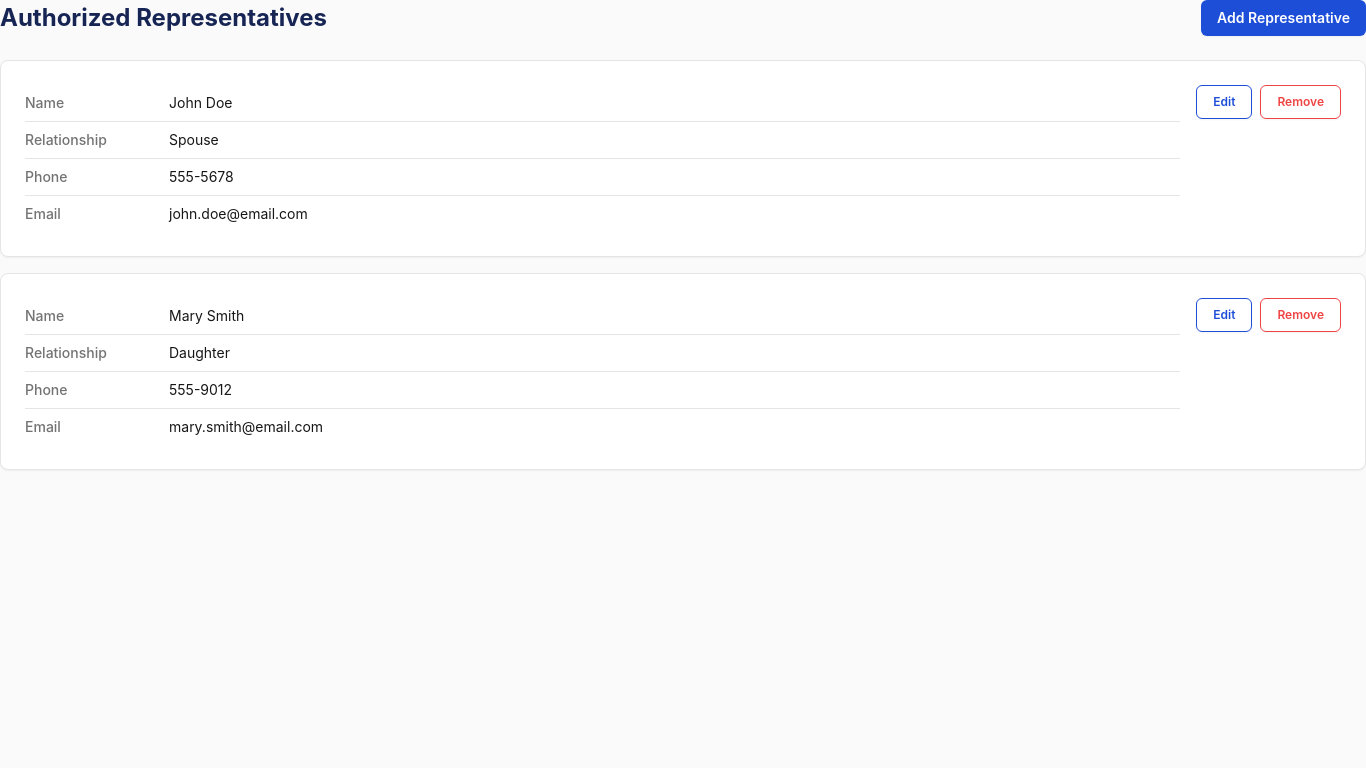
Test case: RepresentativesPage › shows confirmation modal when Remove is clicked
The image size is (1366, 768).
Click the button "Remove" in the row of "John Doe".
click(1301, 102)  # box [1260,85,1341,119]
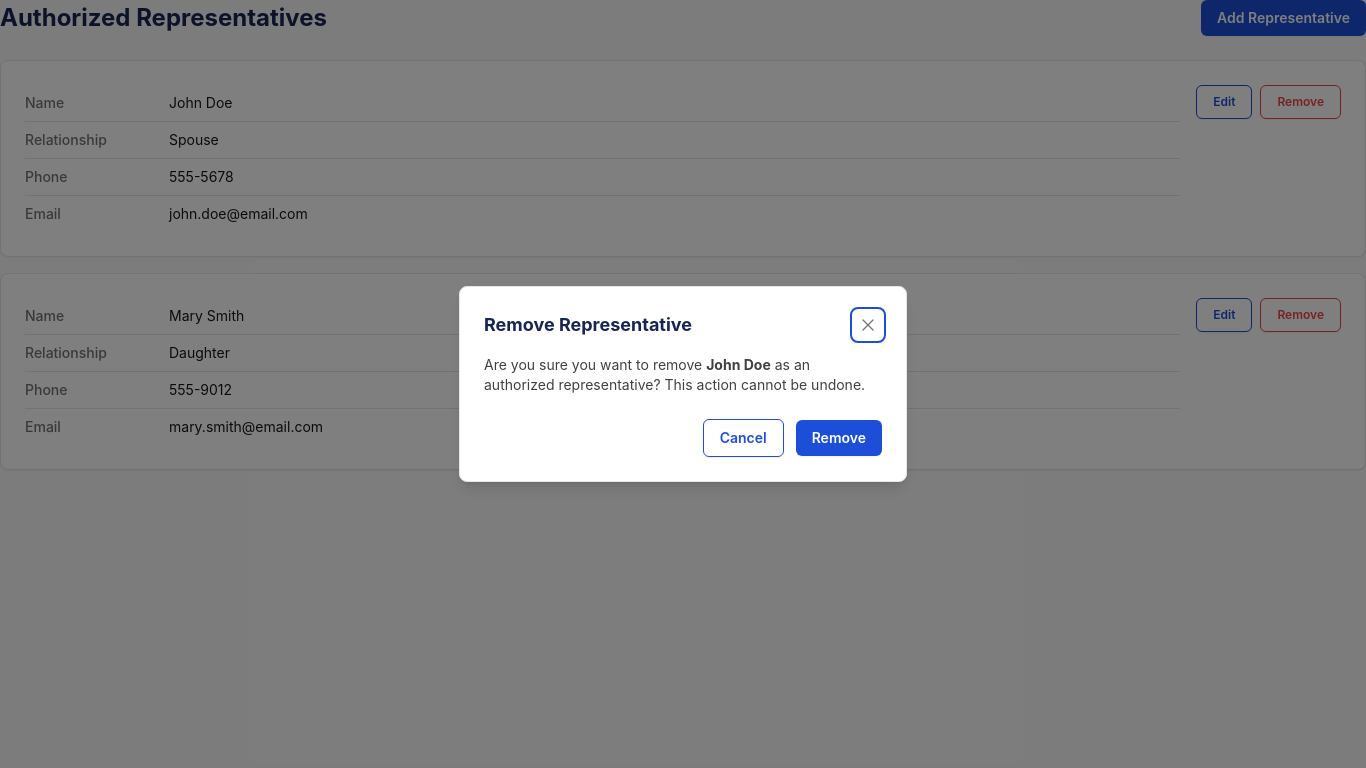
Result: the heading "Remove Representative" is shown at [484,311,692,339]
Result: the text "Are you sure you want to remove" is shown at [484,356,702,373]
Result: the text "John Doe" is shown at [706,356,771,373]
